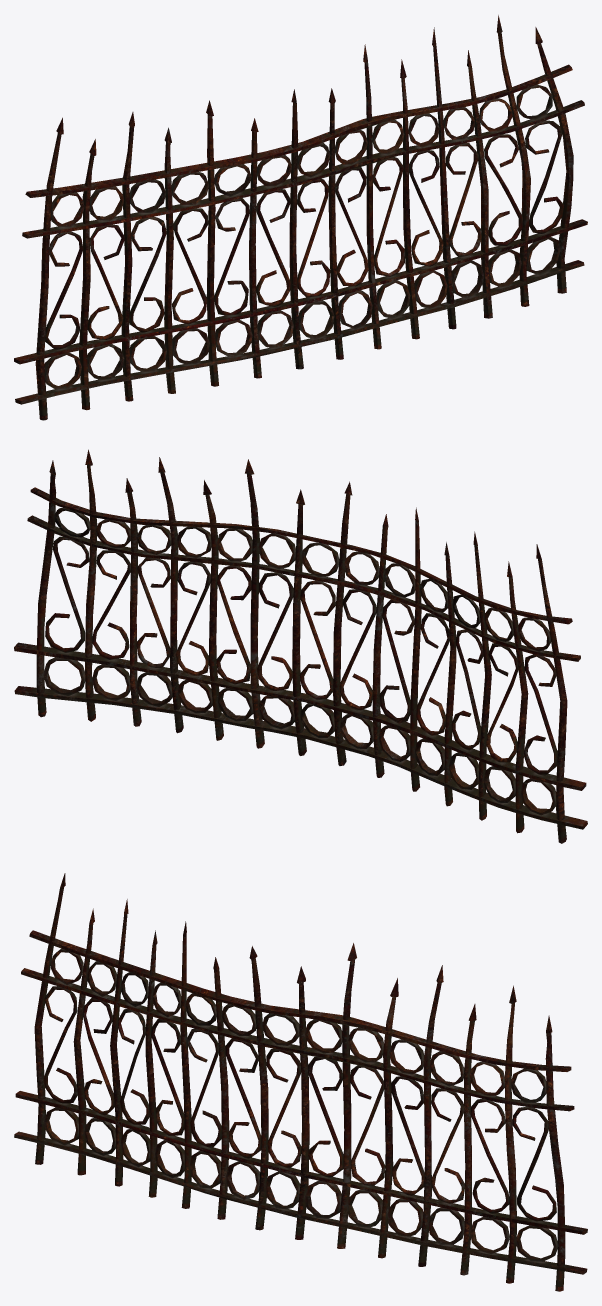
File: SM_fence_16.fbx
3 renders of one model, top to bottom at view 1: azimuth 30°, elevation 25°; view 2: azimuth 150°, elevation 25°; view 3: azimuth 330°, elevation 25°, orthographic.
Parts seen in each view (by area): view 1: SM_fence_16; view 2: SM_fence_16; view 3: SM_fence_16.
Part boxes in pixels (x1,y1,x2,y2): SM_fence_16: (14,15,587,420); SM_fence_16: (14,449,587,843); SM_fence_16: (14,873,587,1291).
Bounding box in the file's own units: 271 × 138 × 25.56.
